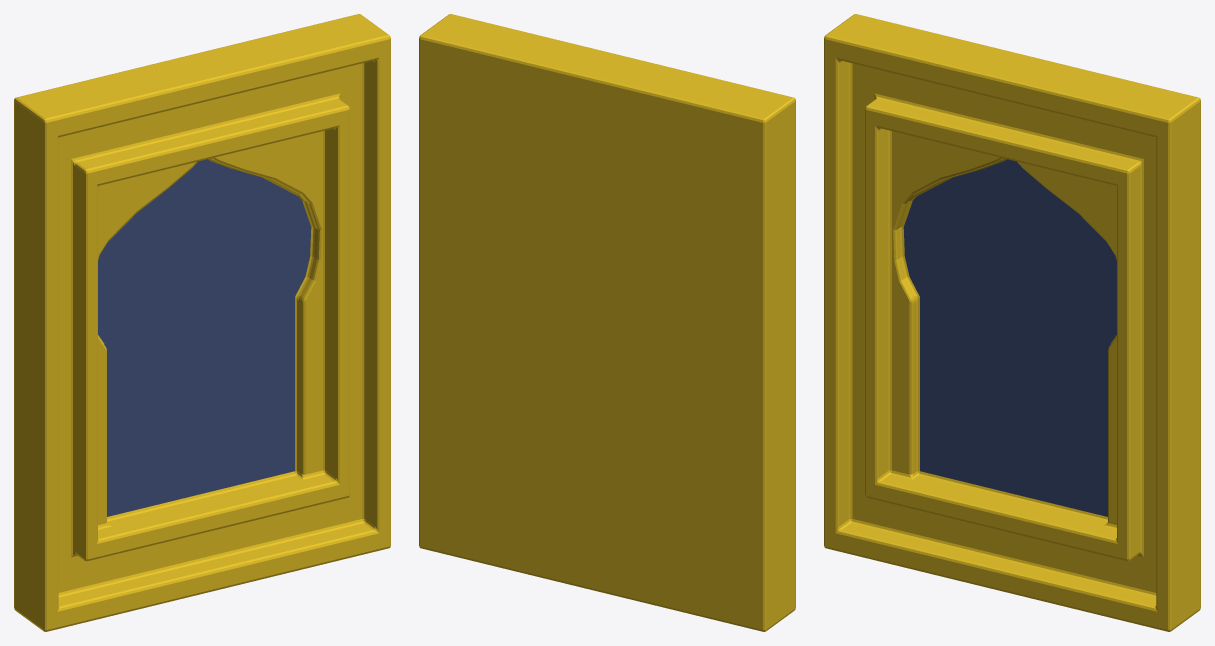
File: Miroir_00.fbx
3 views of the same model, side by side, from view 1: azimuth 30°, elevation 25°; view 2: azimuth 150°, elevation 25°; view 3: azimuth 330°, elevation 25° (orthographic).
Visible parts, largest first — view 1: mirroir; view 2: mirroir; view 3: mirroir.
Boxes of the visible parts, left/top/right/bottom form: mirroir: left=14, top=14, right=390, bottom=631; mirroir: left=419, top=14, right=795, bottom=631; mirroir: left=824, top=14, right=1200, bottom=631.
Size of the model in its own units: 1.46 by 2.06 by 0.232.
